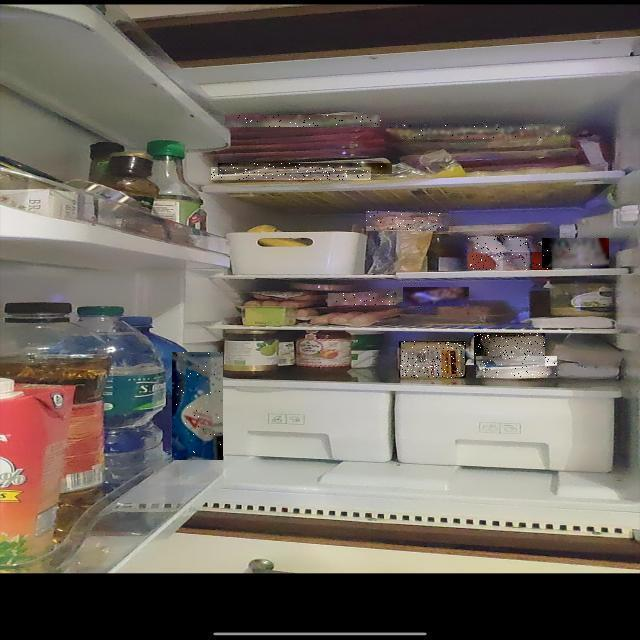Bacon: (366, 211, 449, 231), (403, 287, 469, 306), (328, 293, 396, 305)
Cheese: (399, 341, 466, 378), (474, 333, 545, 367), (476, 356, 557, 378)
Ham: (386, 124, 565, 139), (211, 167, 371, 180), (218, 163, 392, 174), (226, 115, 382, 127)
Milk: (172, 352, 223, 460)
Tomatoes: (503, 252, 552, 270)
Yoghurt: (468, 236, 532, 270), (542, 239, 609, 269)
